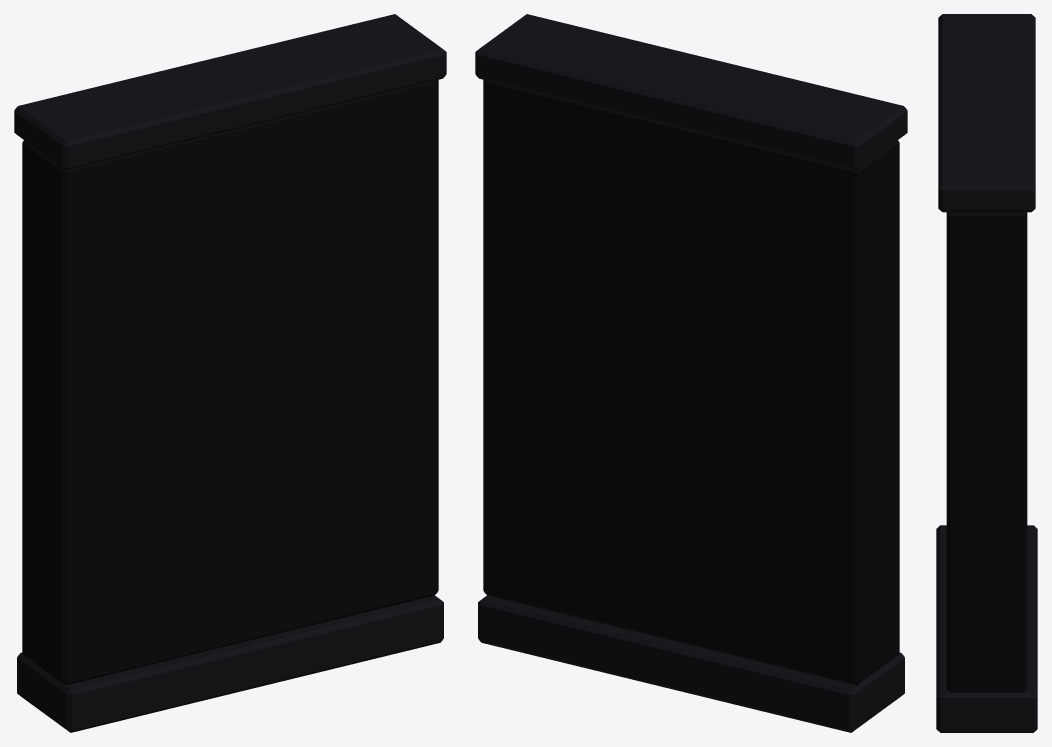
Rendered from SM_Wall_Plain.glb.
3 views of the same model, side by side, from view 1: azimuth 30°, elevation 25°; view 2: azimuth 150°, elevation 25°; view 3: azimuth 270°, elevation 25° (orthographic). The views are drawn at different scales.
Parts seen in each view (by area): view 1: SM_Wall_Plain; view 2: SM_Wall_Plain; view 3: SM_Wall_Plain.
Boxes of the visible parts, <box> form: SM_Wall_Plain: <box>14,14,446,732</box>; SM_Wall_Plain: <box>475,14,907,732</box>; SM_Wall_Plain: <box>936,14,1037,732</box>.
Bounding box in the file's own units: 2.04 × 3 × 0.5.
1 material, 1 textured.
